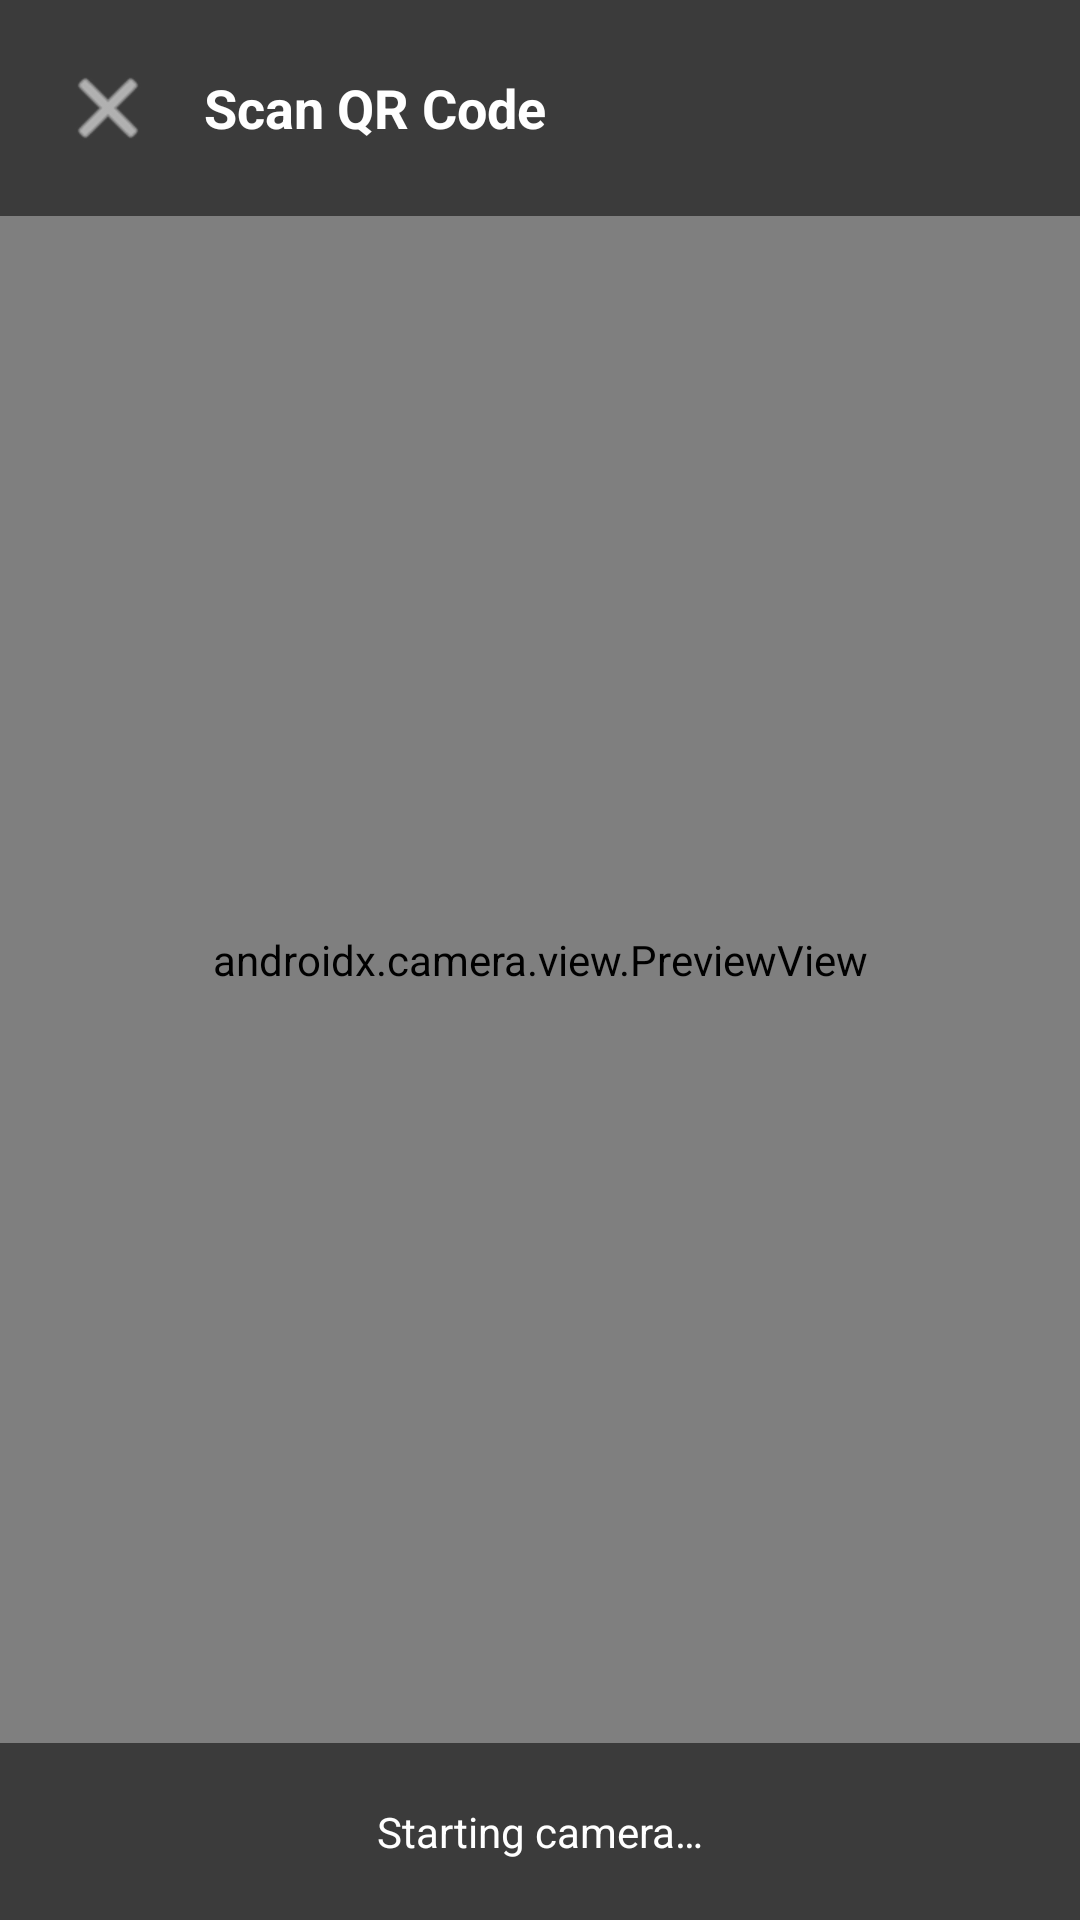

Point at icon controls on the screen. Image size 1080x1920, points as point (x, y).
Close scanner: point (108, 108)
